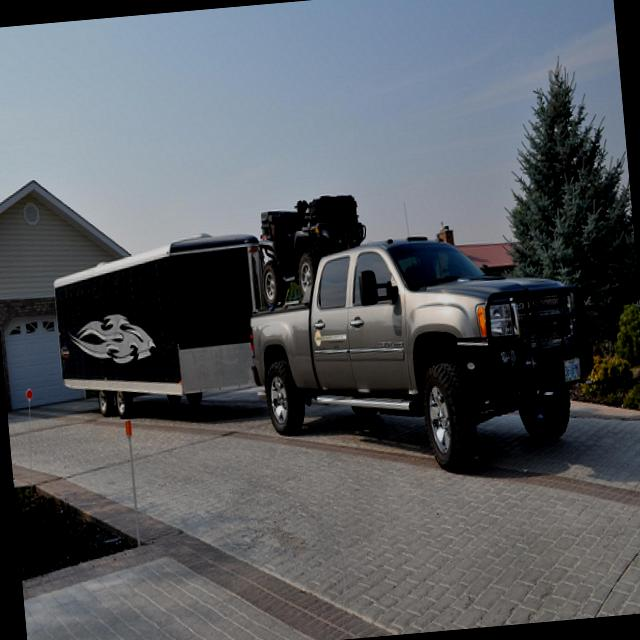Vehicle: (48, 172, 604, 502), (254, 191, 372, 307)
